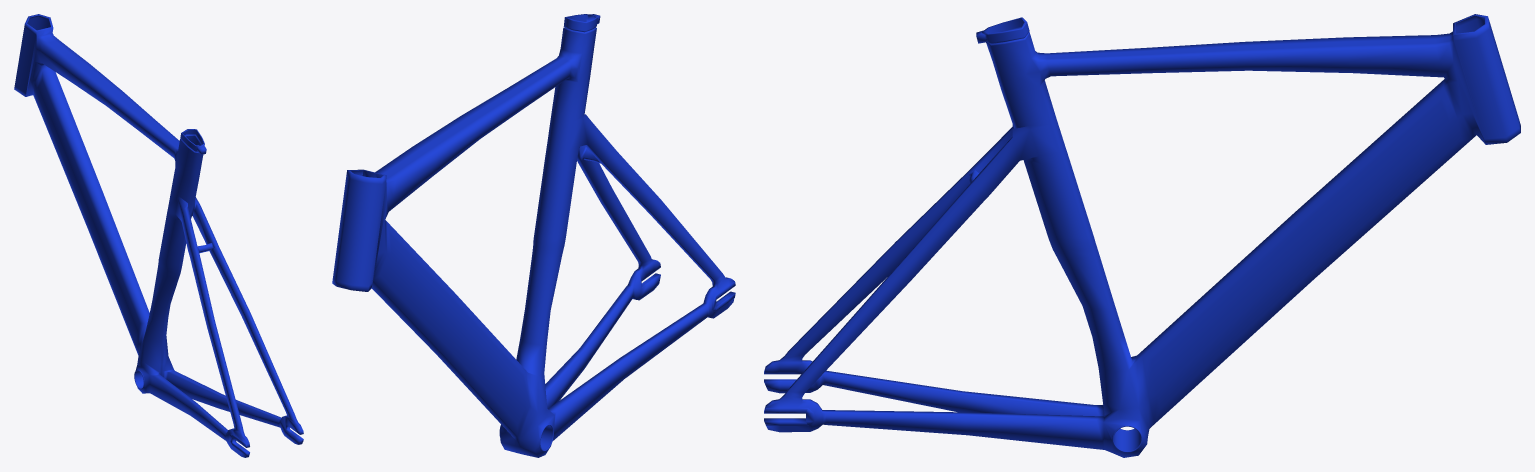
File: frame.glb
3 views of the same model, side by side, from view 1: azimuth 30°, elevation 25°; view 2: azimuth 150°, elevation 25°; view 3: azimuth 270°, elevation 25° (orthographic). The views are drawn at different scales.
Visible parts, largest first — view 1: Frame; view 2: Frame; view 3: Frame.
Part boxes in pixels (x1=…): Frame: x1=14, y1=14, x2=303, y2=457; Frame: x1=332, y1=14, x2=735, y2=457; Frame: x1=764, y1=14, x2=1520, y2=457.
Size of the model in its own units: 0.4349 by 2.03 by 3.24.
